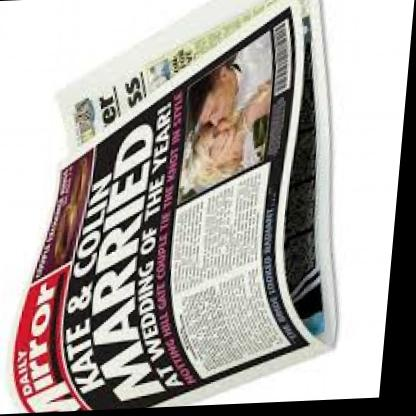Paper: (0, 0, 369, 411)
